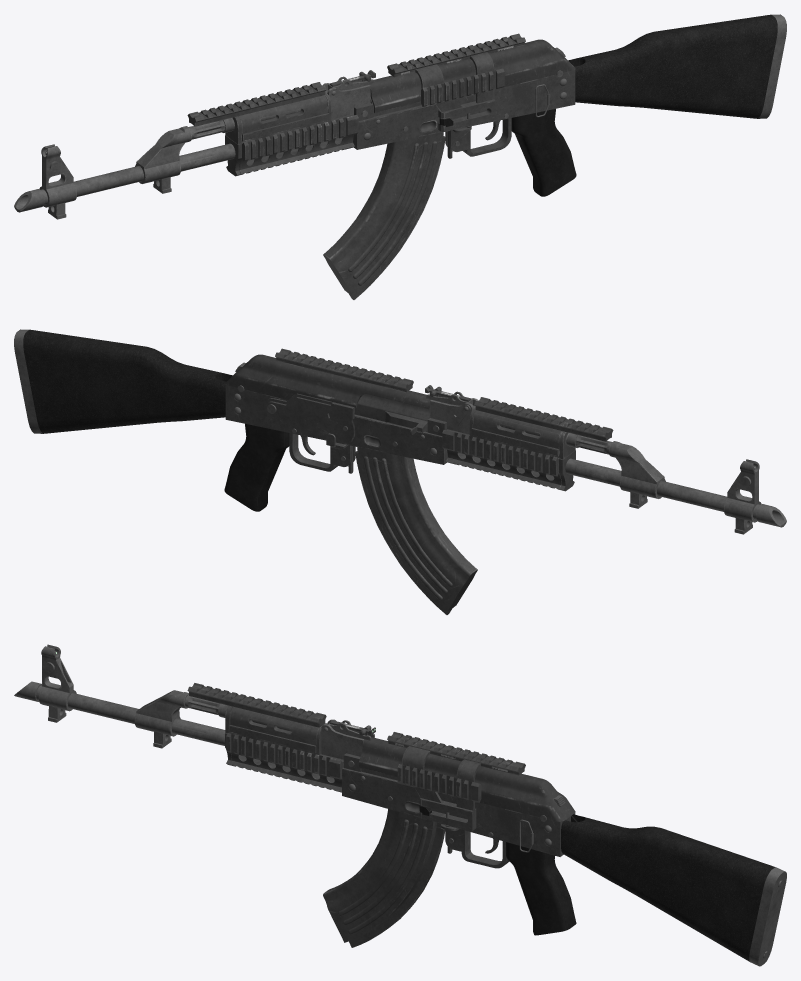
File: rifle.glb
3 views of the same model, one above another, from view 1: azimuth 30°, elevation 25°; view 2: azimuth 150°, elevation 25°; view 3: azimuth 330°, elevation 25° (orthographic).
Visible parts, largest first — view 1: Cube_low, Cube.003_low, Cube.019_low, Cube.002_low, Cube.007_low, Cube.016_low, Cube.015_low, Cube.004_low, Cylinder.011_low, Cylinder.007_low, Cylinder.009_low, Cube.011_low (+4 smaller); view 2: Cube_low, Cube.003_low, Cube.002_low, Cube.007_low, Cube.016_low, Cube.015_low, Cube.004_low, Cylinder.011_low, Cylinder.007_low, Cube.019_low, Cube.009_low, Cylinder.009_low (+7 smaller); view 3: Cube_low, Cube.003_low, Cube.019_low, Cube.002_low, Cube.007_low, Cube.016_low, Cube.004_low, Cube.015_low, Cylinder.011_low, Cube.001_low, Cylinder.007_low, Cylinder.009_low (+3 smaller).
Part boxes in pixels (<box>): Cube_low: <box>568,14,777,118</box>; Cube.003_low: <box>323,132,445,299</box>; Cube.019_low: <box>387,33,525,131</box>; Cube.002_low: <box>353,69,575,149</box>; Cube.007_low: <box>369,39,575,113</box>; Cube.016_low: <box>187,82,329,142</box>; Cube.015_low: <box>239,114,358,174</box>; Cube.004_low: <box>511,109,576,196</box>; Cylinder.011_low: <box>40,143,235,204</box>; Cylinder.007_low: <box>135,126,192,193</box>; Cylinder.009_low: <box>39,144,76,219</box>; Cube.011_low: <box>322,76,374,119</box>; Cube_low: <box>23,329,232,433</box>; Cube.003_low: <box>355,447,477,614</box>; Cube.002_low: <box>225,384,447,464</box>; Cube.007_low: <box>225,354,431,409</box>; Cube.016_low: <box>471,397,613,457</box>; Cube.015_low: <box>442,429,561,489</box>; Cube.004_low: <box>224,424,289,511</box>; Cylinder.011_low: <box>565,458,760,519</box>; Cylinder.007_low: <box>608,441,665,508</box>; Cube.019_low: <box>275,348,413,392</box>; Cube.009_low: <box>354,394,430,434</box>; Cylinder.009_low: <box>724,459,761,534</box>; Cube_low: <box>561,814,775,961</box>; Cube.003_low: <box>323,809,445,947</box>; Cube.019_low: <box>387,732,525,830</box>; Cube.002_low: <box>342,768,575,856</box>; Cube.007_low: <box>359,737,575,821</box>; Cube.016_low: <box>187,683,326,754</box>; Cube.004_low: <box>506,842,576,935</box>; Cube.015_low: <box>226,733,343,792</box>; Cylinder.011_low: <box>36,685,343,767</box>; Cube.001_low: <box>749,867,786,966</box>; Cylinder.007_low: <box>134,690,188,748</box>; Cylinder.009_low: <box>38,644,76,722</box>.
Bounding box in the file's own units: 1998 × 567 × 136.
Materials: 1 (1 with a texture image).
